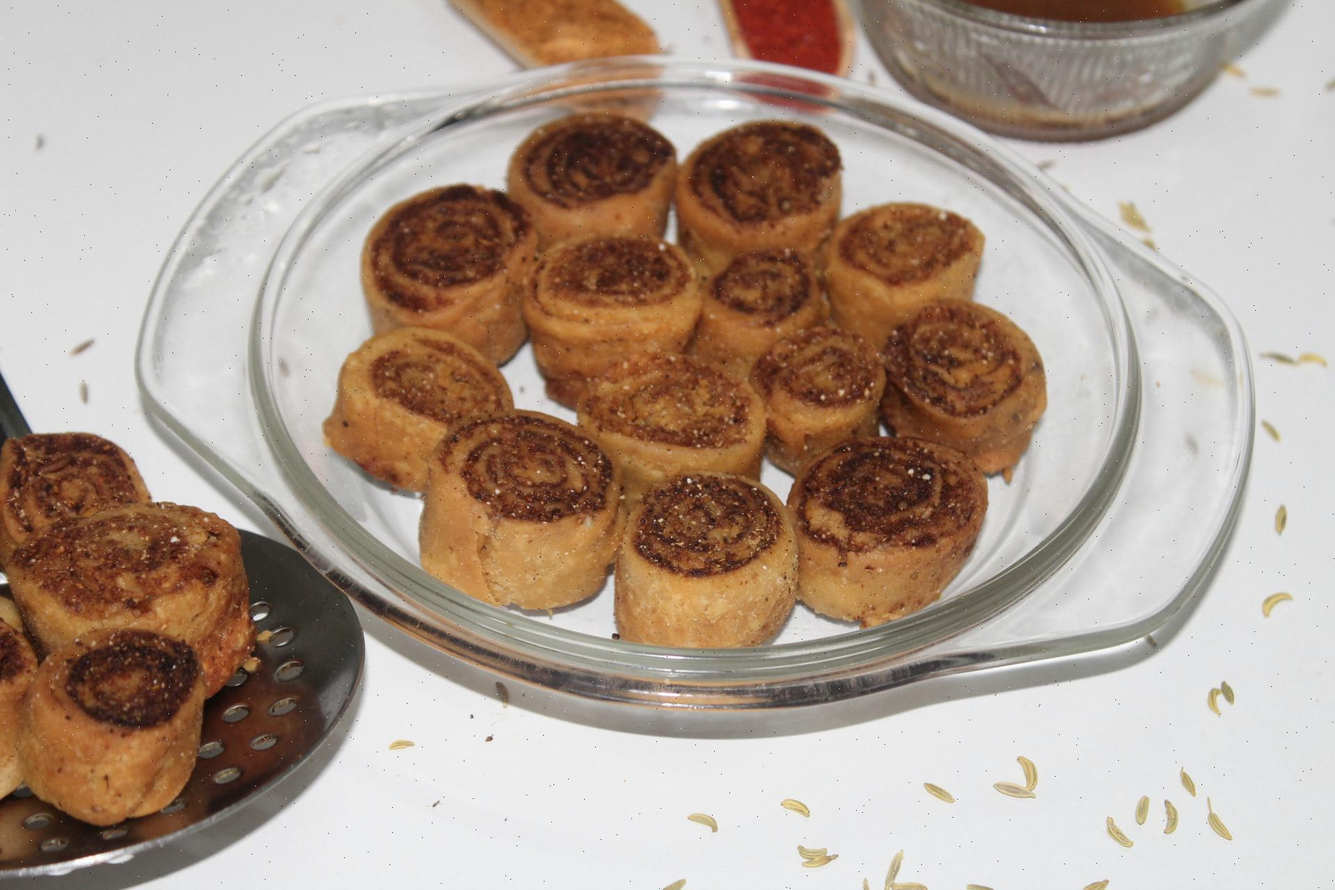bhakarwadi: (322, 106, 1083, 660)
